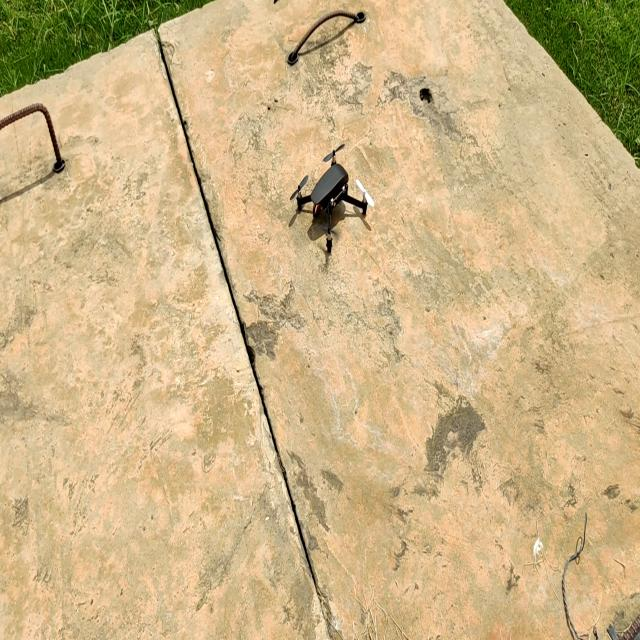drone: (287, 126, 380, 270)
